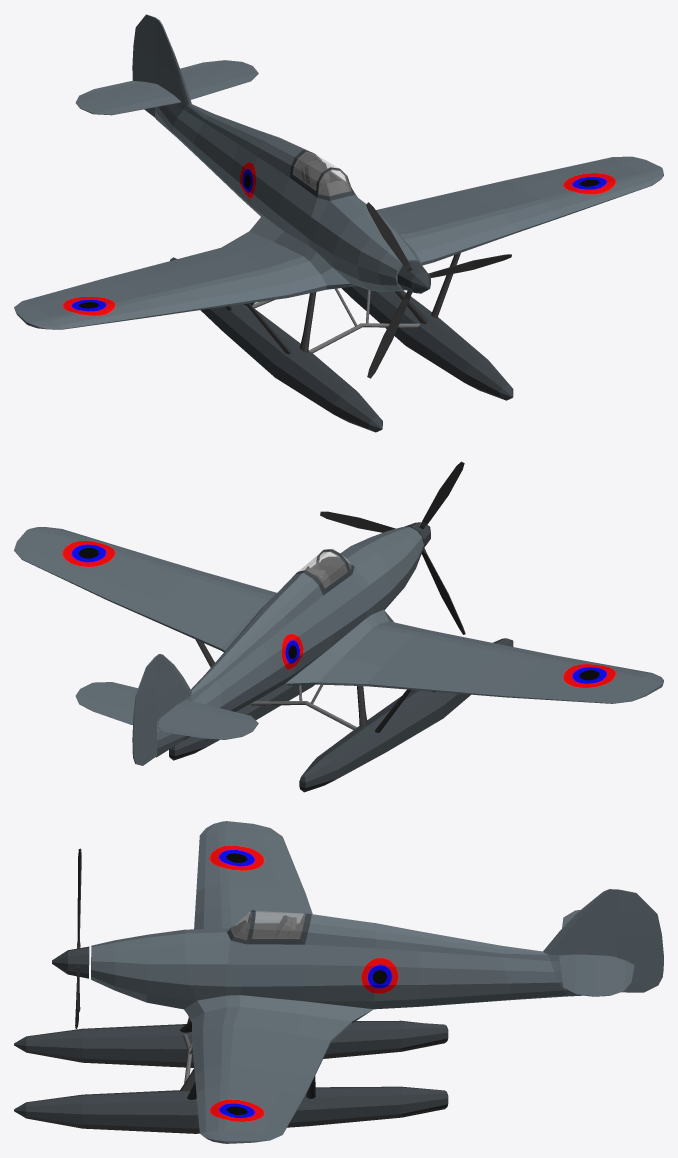
3 renders of one model, top to bottom at view 1: azimuth 30°, elevation 25°; view 2: azimuth 150°, elevation 25°; view 3: azimuth 270°, elevation 25°, orthographic. The views are drawn at different scales.
Visible parts, largest first — view 1: Body, propeller, Rudder, L_ailerone, R_ailerone, Circle.004, R_elevator; view 2: Body, propeller, L_ailerone, Rudder, R_ailerone, Circle.004, R_elevator, L_elevator; view 3: Body, Rudder, R_ailerone, L_ailerone, Circle.004, propeller, L_elevator.
Part boxes in pixels (x1,y1,x2,y2): Body: (14,17,663,432); propeller: (366,202,511,378); Rudder: (132,14,155,117); L_ailerone: (460,157,621,196); R_ailerone: (22,267,157,306); Circle.004: (292,151,347,192); R_elevator: (75,81,157,102); Body: (14,527,663,792); propeller: (320,461,465,634); L_ailerone: (22,551,157,616); Rudder: (132,657,157,765); R_ailerone: (459,678,621,703); Circle.004: (297,550,349,590); R_elevator: (158,718,242,739); L_elevator: (75,696,133,724); Body: (14,821,617,1143); Rudder: (616,889,663,992); R_ailerone: (263,835,312,915); L_ailerone: (263,1072,313,1134); Circle.004: (250,910,307,940); propeller: (52,848,89,1029); L_elevator: (610,956,634,995).
Bounding box in the file's own units: 1627 × 542 × 1395.
